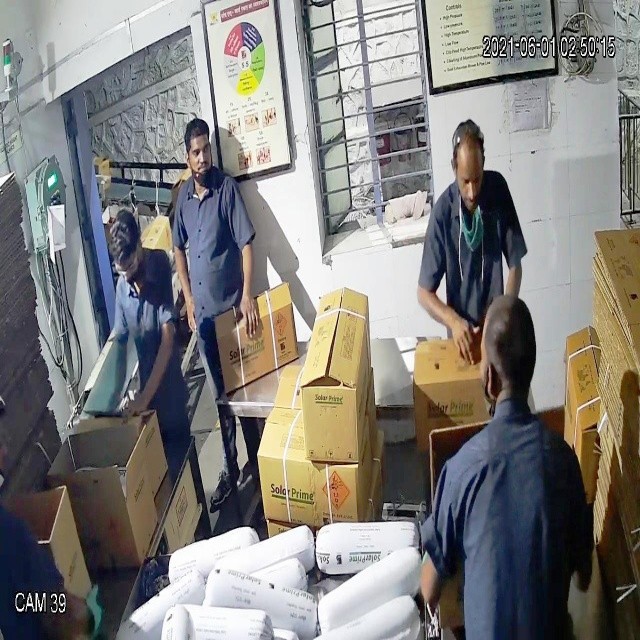Gafas: (109, 248, 144, 285)
Sin_gafas: (447, 161, 490, 196), (179, 135, 219, 172)
